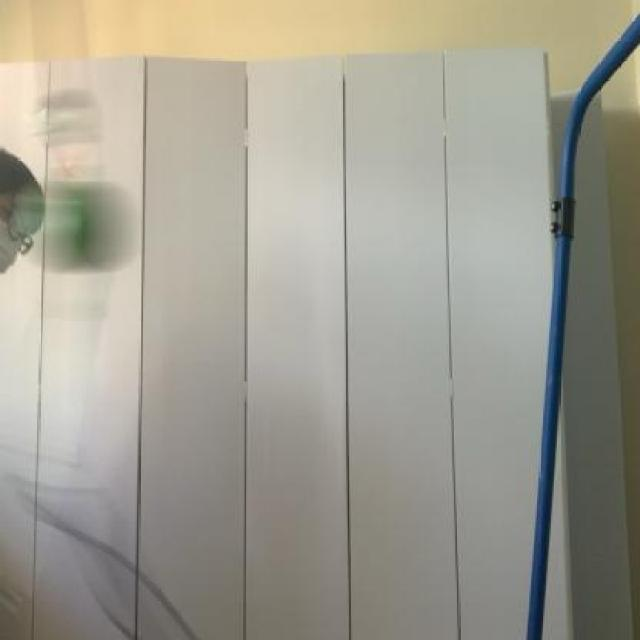baseball: (22, 163, 147, 277)
